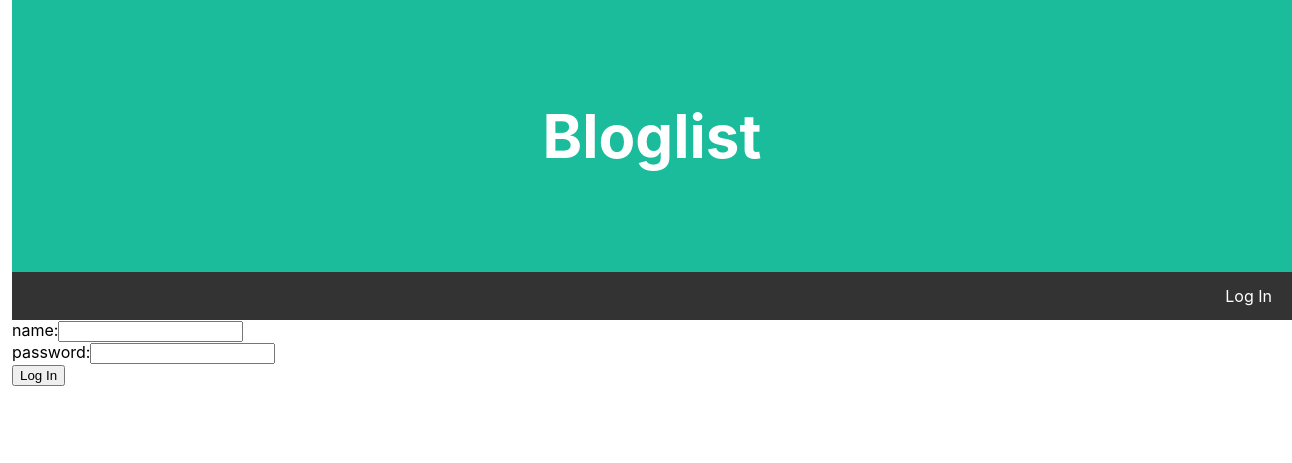
Blog app › user login fails with wrong password
Type "username1" into the field with id "username-input" at (151, 332), box [58,321,243,342]
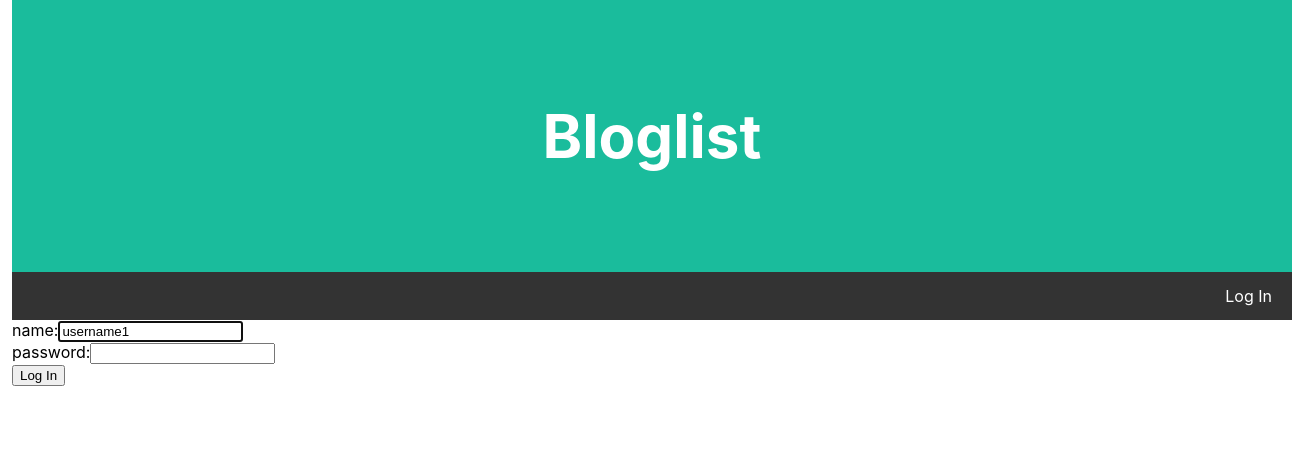
Type "asdf" into the field next to "password:" at (183, 354), box [90,343,275,364]
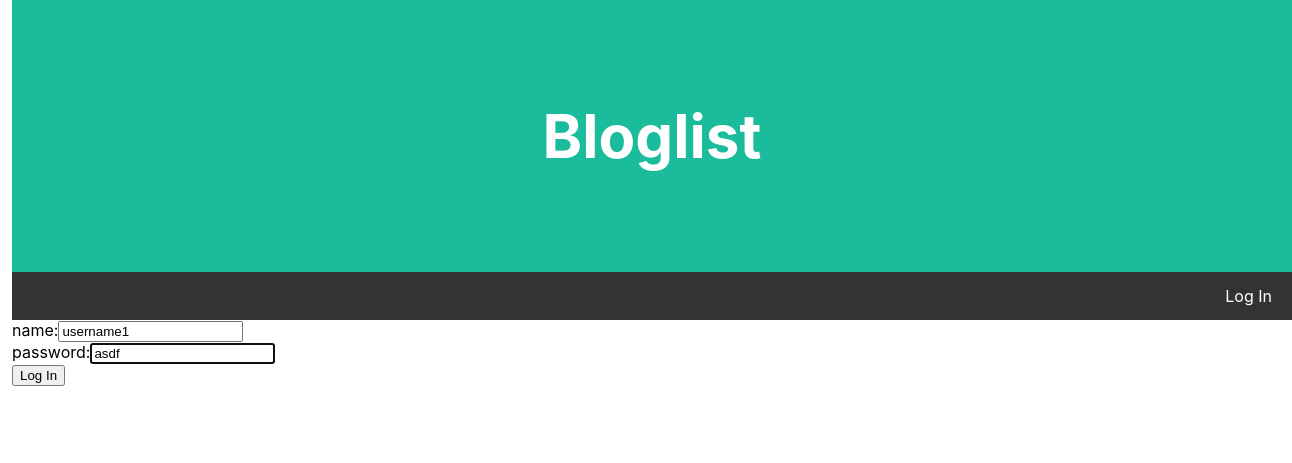
Click the button with id "login-button" at (39, 376), box [12,365,65,386]
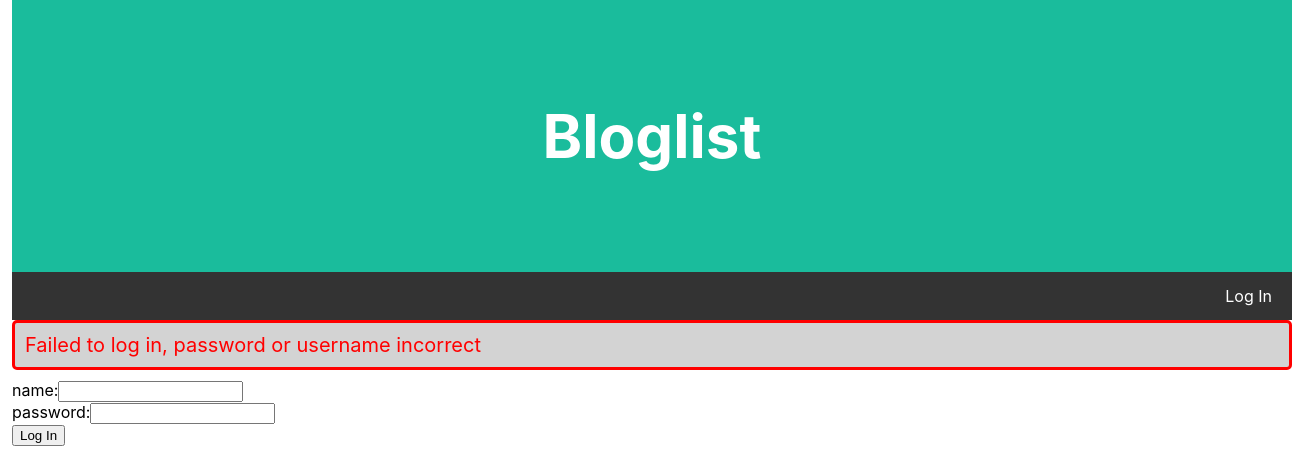
Expected: the text "Failed to log in, password or username incorrect" is shown, [12,320,1291,370]
